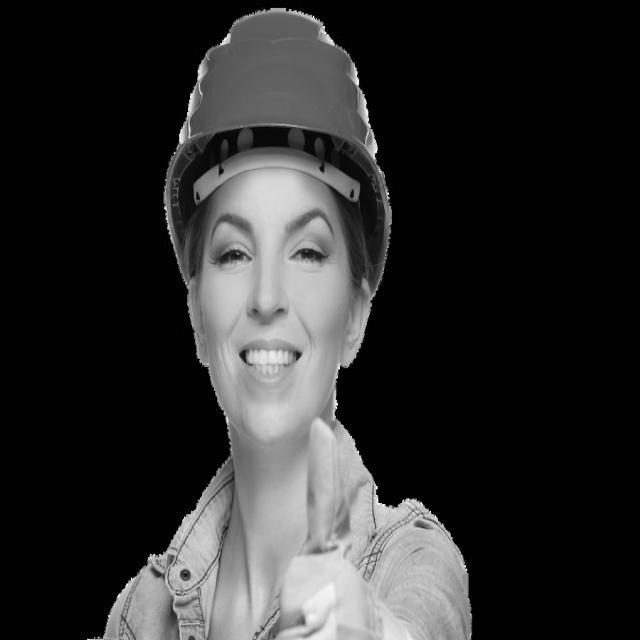safety_helmet: (163, 8, 393, 291)
